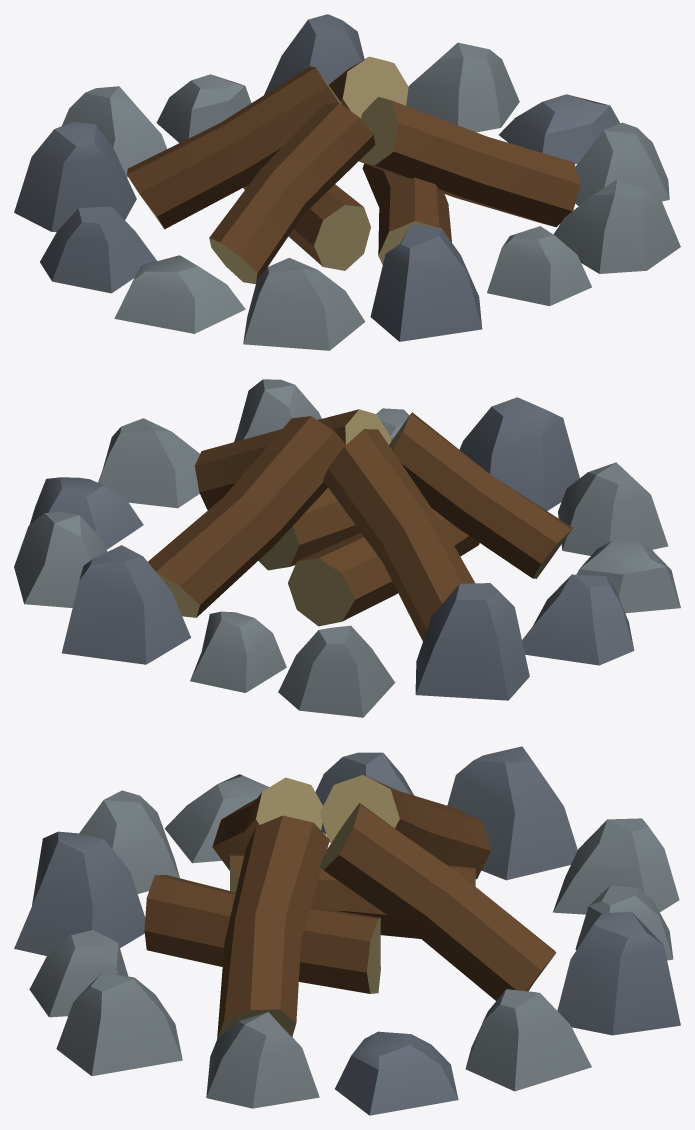
The model's file is campfire.glb.
3 views of the same model, one above another, from view 1: azimuth 30°, elevation 25°; view 2: azimuth 150°, elevation 25°; view 3: azimuth 270°, elevation 25° (orthographic). The views are drawn at different scales.
Parts seen in each view (by area): view 1: Bonfire; view 2: Bonfire; view 3: Bonfire.
Part boxes in pixels (left/top/right/bottom): Bonfire: left=14, top=14, right=680, bottom=350; Bonfire: left=14, top=379, right=680, bottom=717; Bonfire: left=14, top=746, right=680, bottom=1115.
Bounding box in the file's own units: 0.4066 × 0.1122 × 0.3624.
